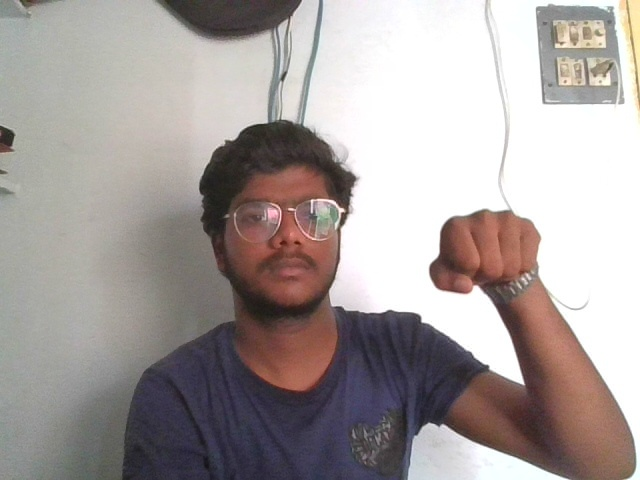Yes: (424, 208, 549, 296)
